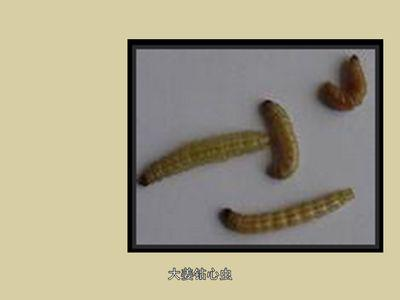pest: (135, 130, 269, 187), (217, 182, 357, 235), (257, 103, 304, 178), (319, 55, 363, 113)
